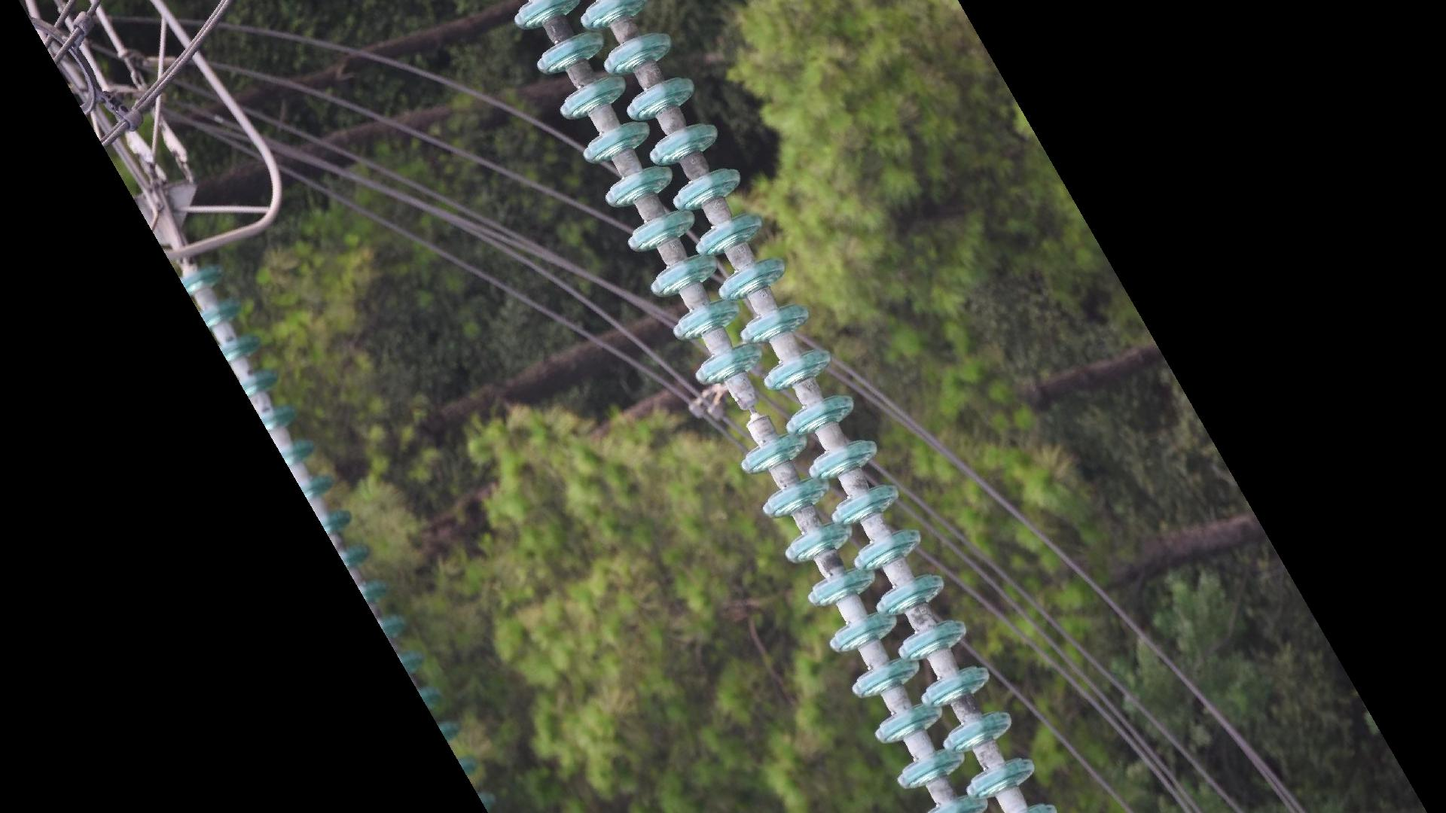insulator: (502, 1, 1066, 813)
insulator_stringdrop: (691, 338, 813, 479)
